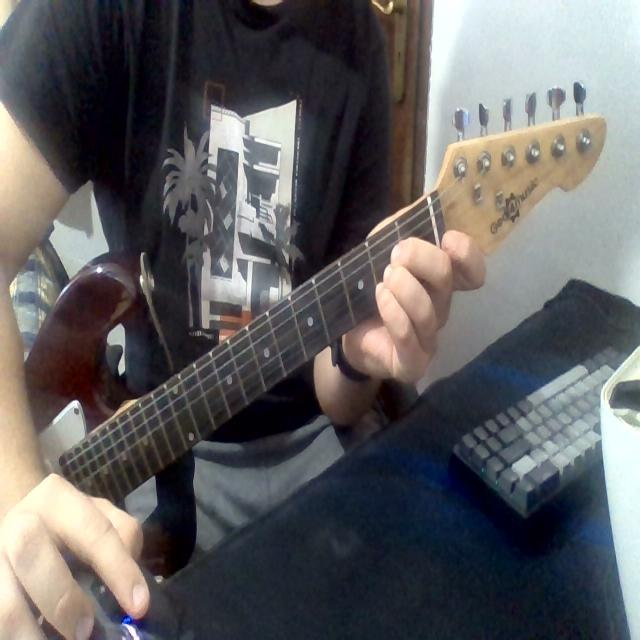A: (364, 222, 445, 328)
